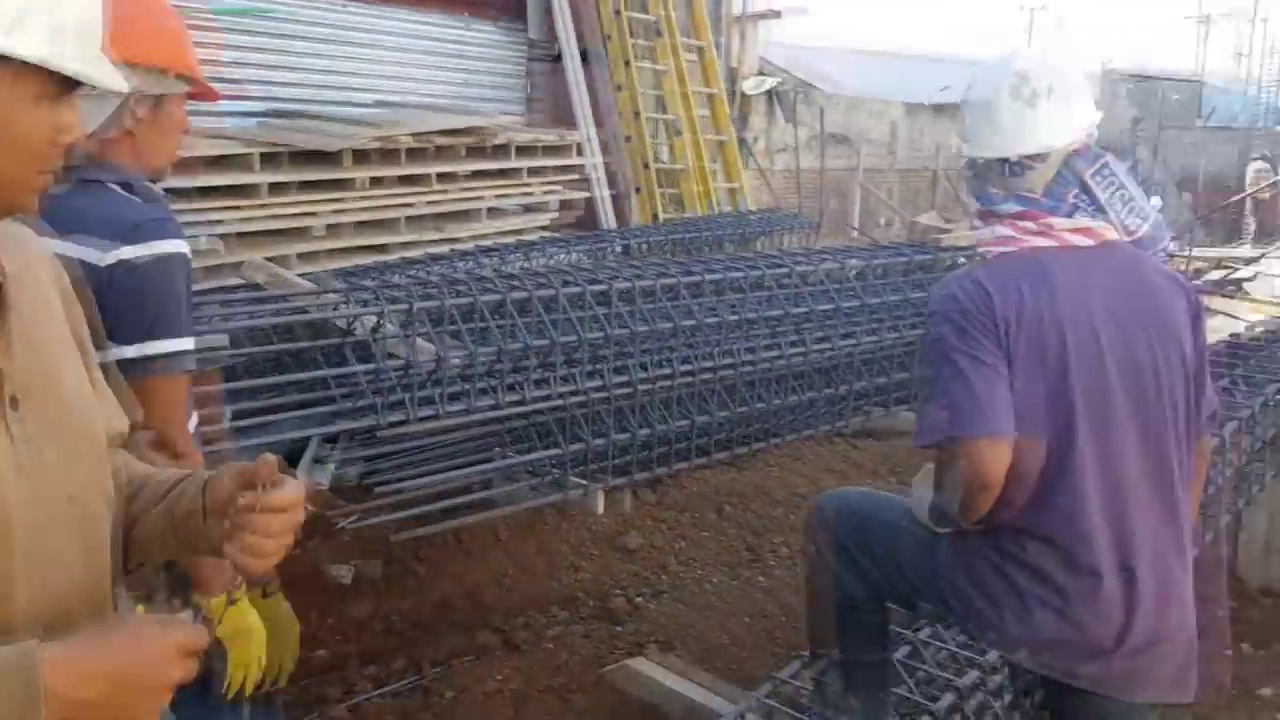helmet: (951, 54, 1098, 166), (102, 4, 232, 108), (0, 4, 129, 107)
helmet-off: (1250, 145, 1272, 167)
helmet-on: (1, 5, 138, 222), (68, 6, 229, 185), (958, 57, 1100, 216)
person: (812, 58, 1210, 719), (0, 0, 304, 718), (36, 5, 308, 701), (1236, 150, 1280, 255)
